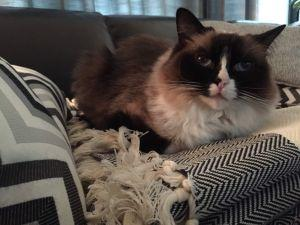ragdoll: (162, 6, 291, 117)
